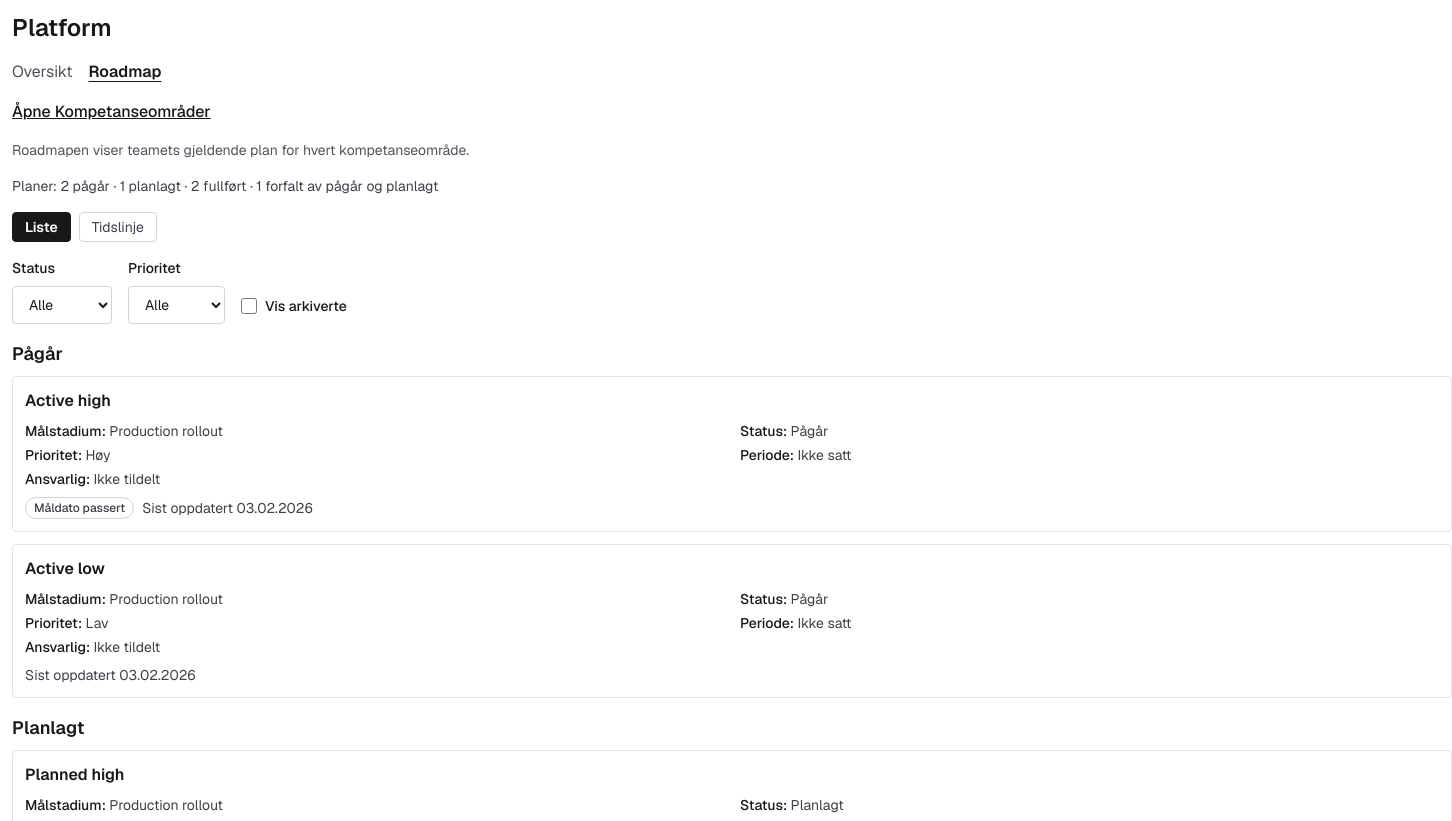
RoadmapPage filters, summary, disclosure and archived visibility (TASK-007) › shows the filtered completed count in the disclosure header while the summary keeps the full count
Check: the dropdown labelled "Status" is shown, box [12,286,112,324]
Select "Høy" in the dropdown labelled "Prioritet": (176, 305) [128,286,225,324]
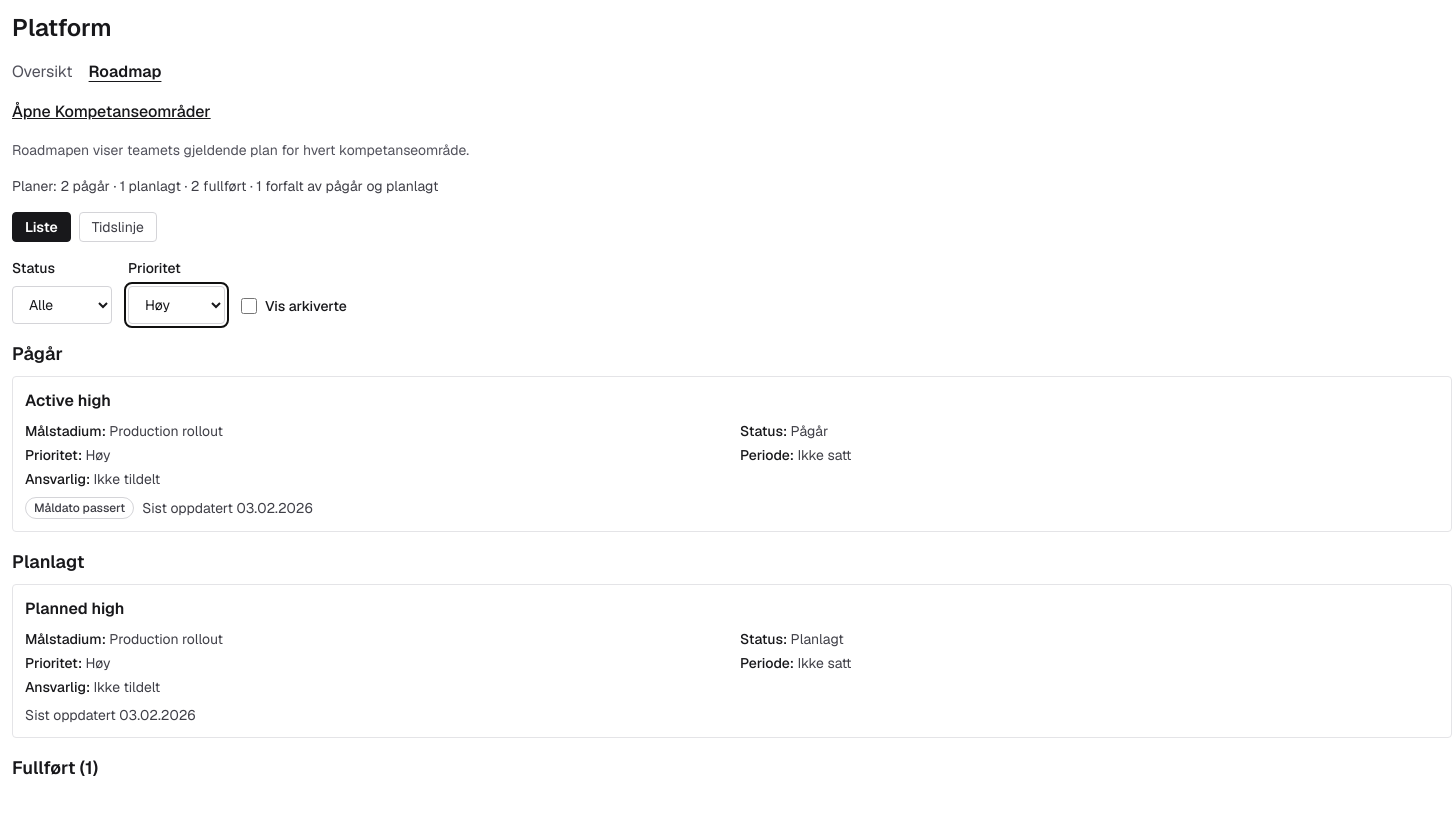
Check: the text "Planer:" shows "2 fullført", box [12,177,438,195]
Check: the button "Fullført (1)" is shown, box [12,754,98,782]
